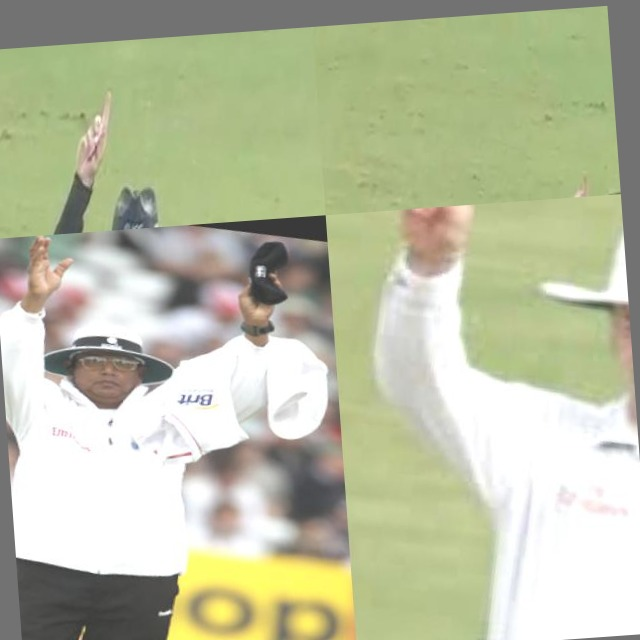Out: (326, 194, 640, 640), (0, 61, 254, 239)
Six: (0, 215, 357, 640)
